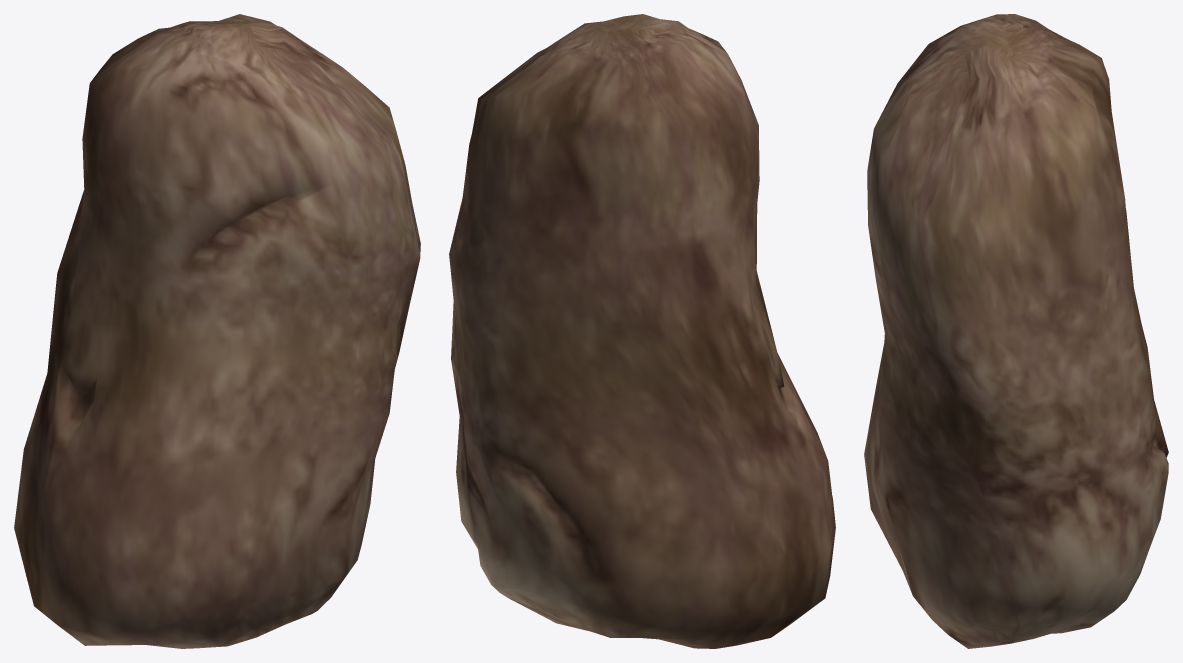
File: asteroid4.FBX
The picture shows the model from 3 angles, left to right: view 1: azimuth 30°, elevation 25°; view 2: azimuth 150°, elevation 25°; view 3: azimuth 270°, elevation 25°; orthographic projection. The views are drawn at different scales.
Visible parts, largest first — view 1: asteroid1; view 2: asteroid1; view 3: asteroid1.
Boxes of the visible parts, x1,y1,x2,y2 form: asteroid1: (14, 14, 420, 648); asteroid1: (449, 14, 835, 648); asteroid1: (864, 14, 1168, 648).
Size of the model in its own units: 959 by 1495 by 694.
1 material, 1 textured.
